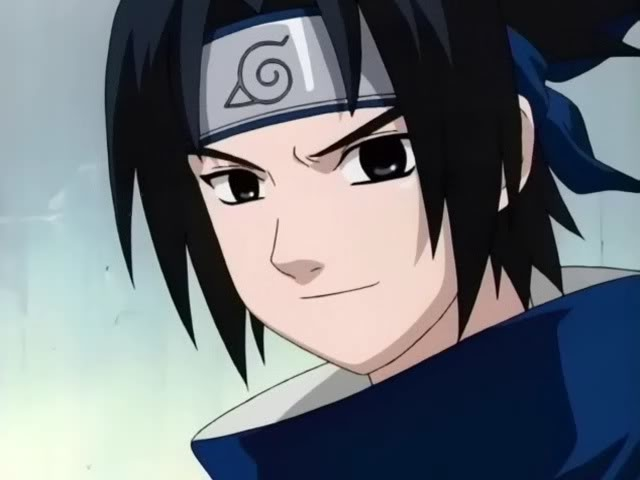sasuke: (181, 10, 542, 381)
